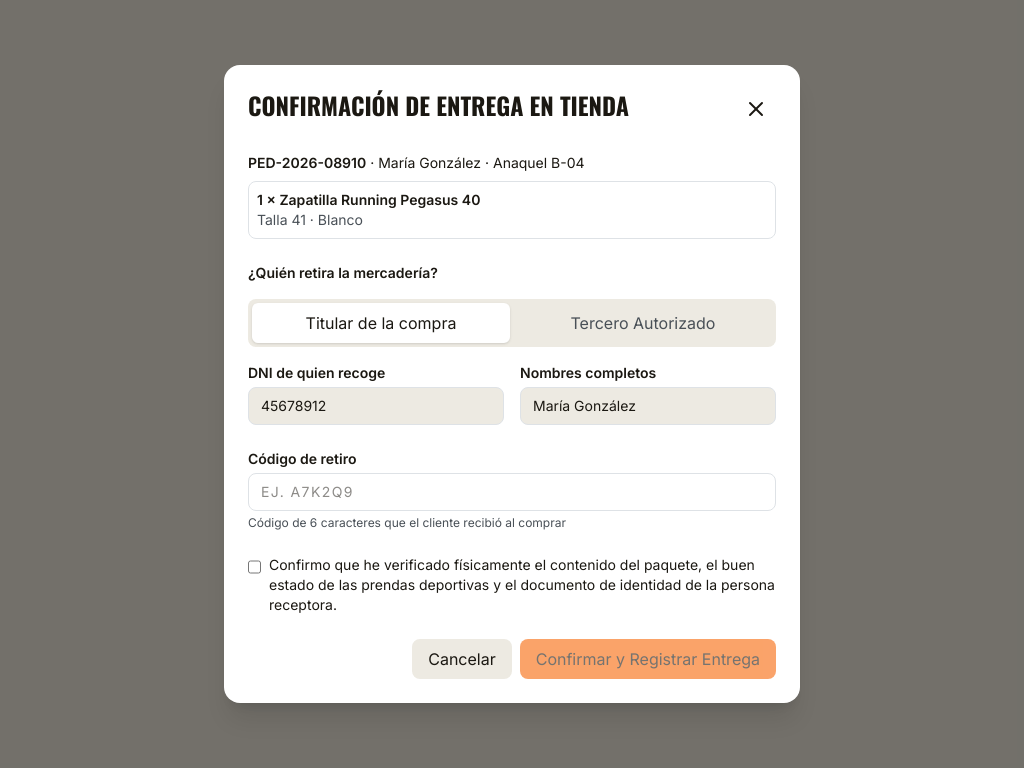
Scenario: DeliveryModal (RF-19) › mantiene inactivo el botón sin checkbox de verificación ni código de retiro
This screenshot has width=1024, height=768.
Check: the button "Confirmar y Registrar Entrega" is disabled, box [520,639,776,679]
Type "A7K2Q9" into the field labelled "Código de retiro" at coordinates (512, 492), box [248,473,776,511]
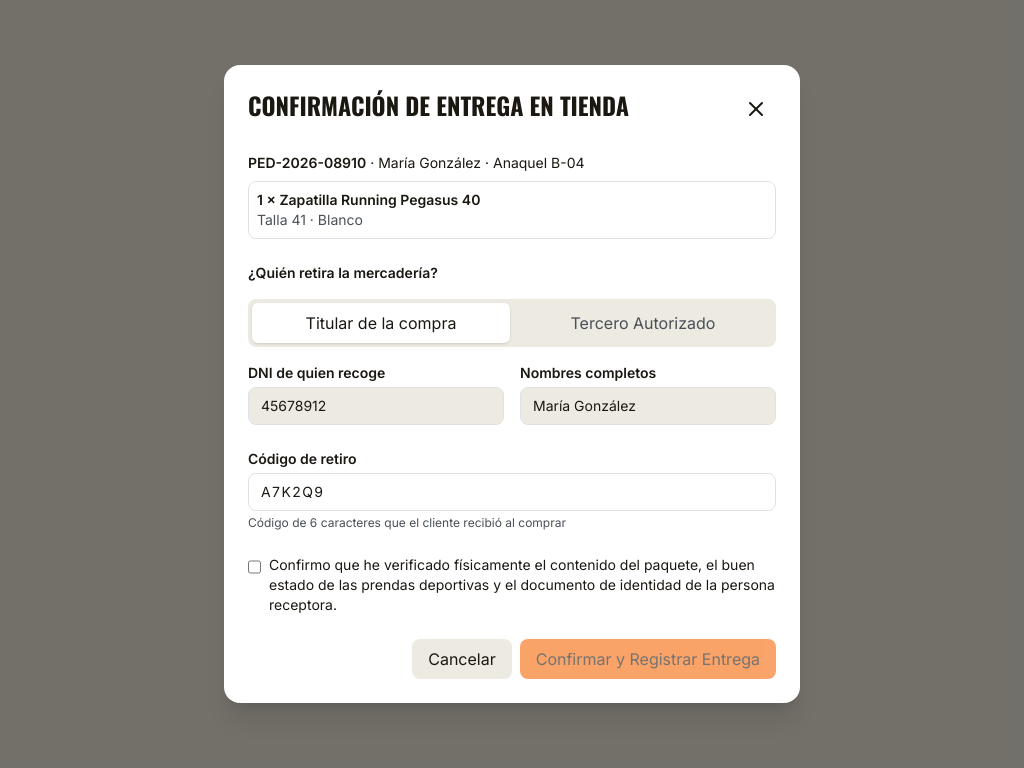
Check: the button "Confirmar y Registrar Entrega" is disabled, box [520,639,776,679]
Click the checkbox labelled "verificado físicamente" at coordinates (254, 567), box [248,559,261,575]
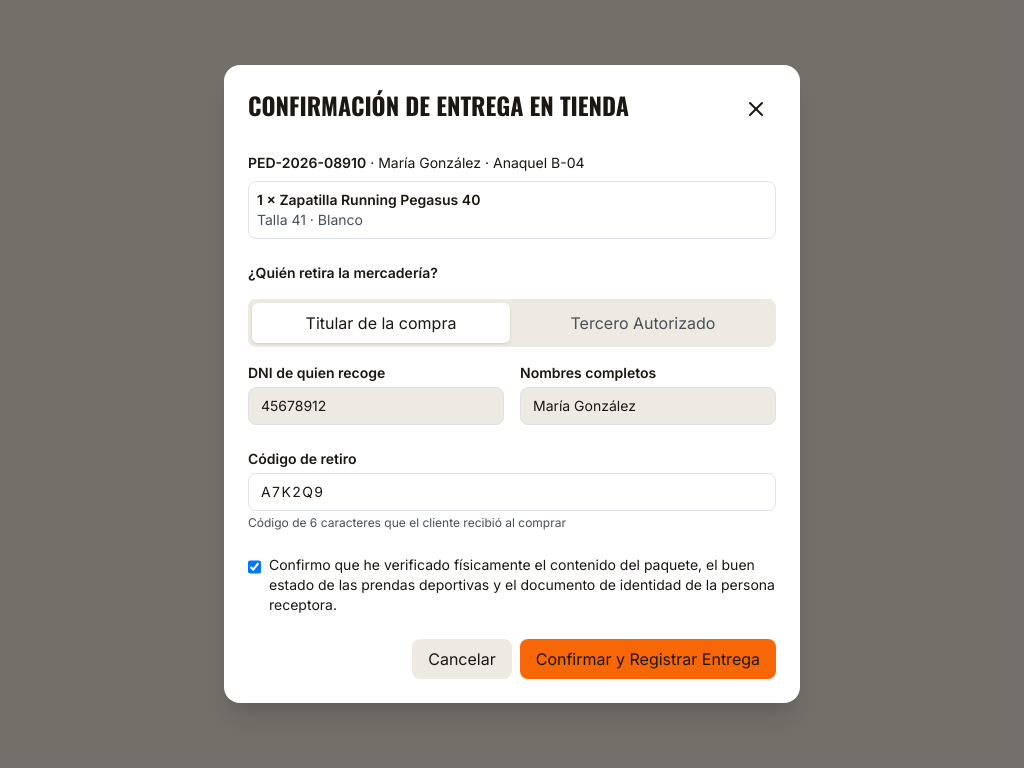
Check: the button "Confirmar y Registrar Entrega" is enabled, box [520,639,776,679]
